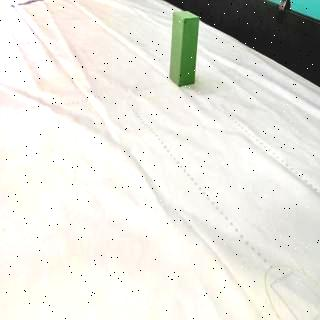greenbox: (169, 11, 200, 86)
